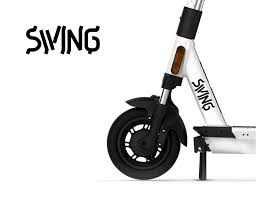kick_wheel: (108, 95, 188, 179)
